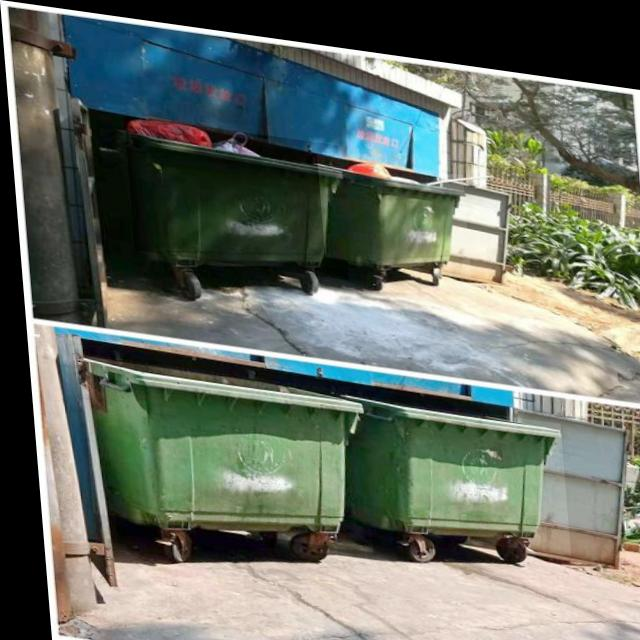garbage_bin: (74, 352, 364, 543), (335, 384, 563, 540)
overflow: (123, 112, 346, 271), (315, 145, 468, 264)
